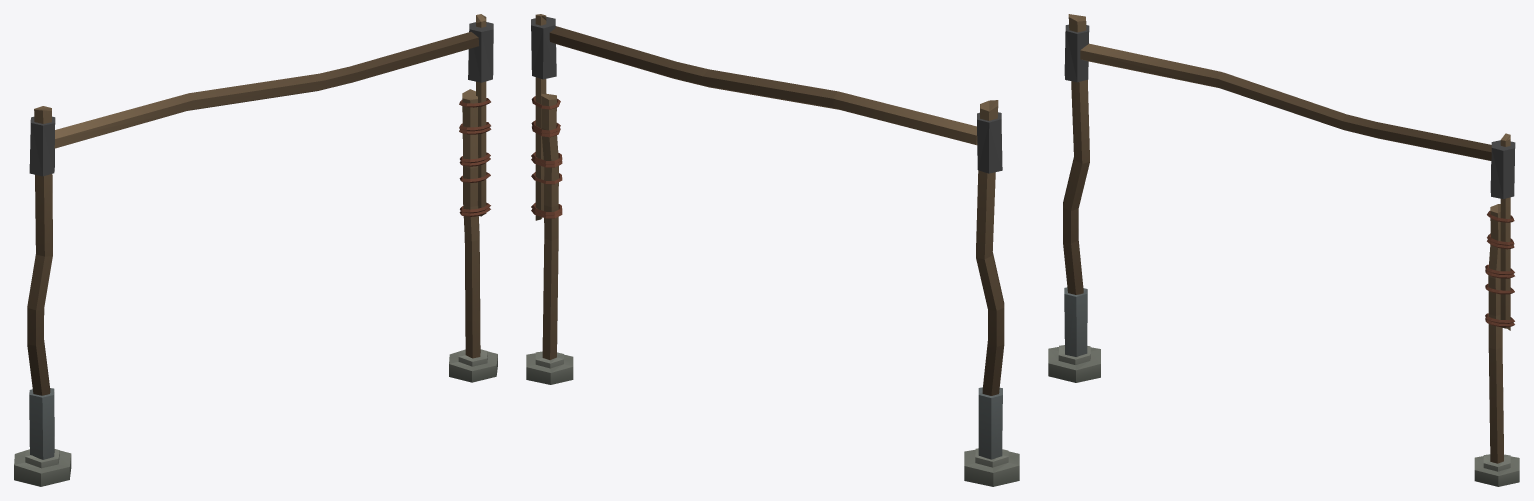
Rendered from ZLPC_Prop_D_19.FBX.
The picture shows the model from 3 angles, left to right: view 1: azimuth 30°, elevation 25°; view 2: azimuth 150°, elevation 25°; view 3: azimuth 330°, elevation 25°; orthographic projection. The views are drawn at different scales.
Visible parts, largest first — view 1: ZLPC_Prop_D_19; view 2: ZLPC_Prop_D_19; view 3: ZLPC_Prop_D_19.
Boxes of the visible parts, x1,y1,x2,y2 form: ZLPC_Prop_D_19: (14,14,497,486); ZLPC_Prop_D_19: (526,14,1019,486); ZLPC_Prop_D_19: (1048,14,1519,486).
Size of the model in its own units: 541 by 397 by 53.68.
1 material, 1 textured.
